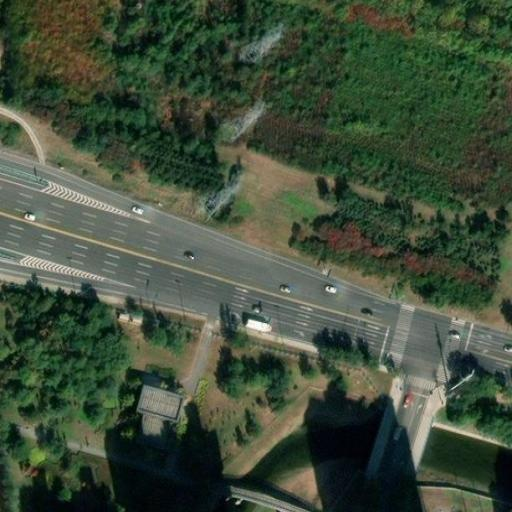building: (137, 381, 183, 418), (242, 312, 270, 332)
